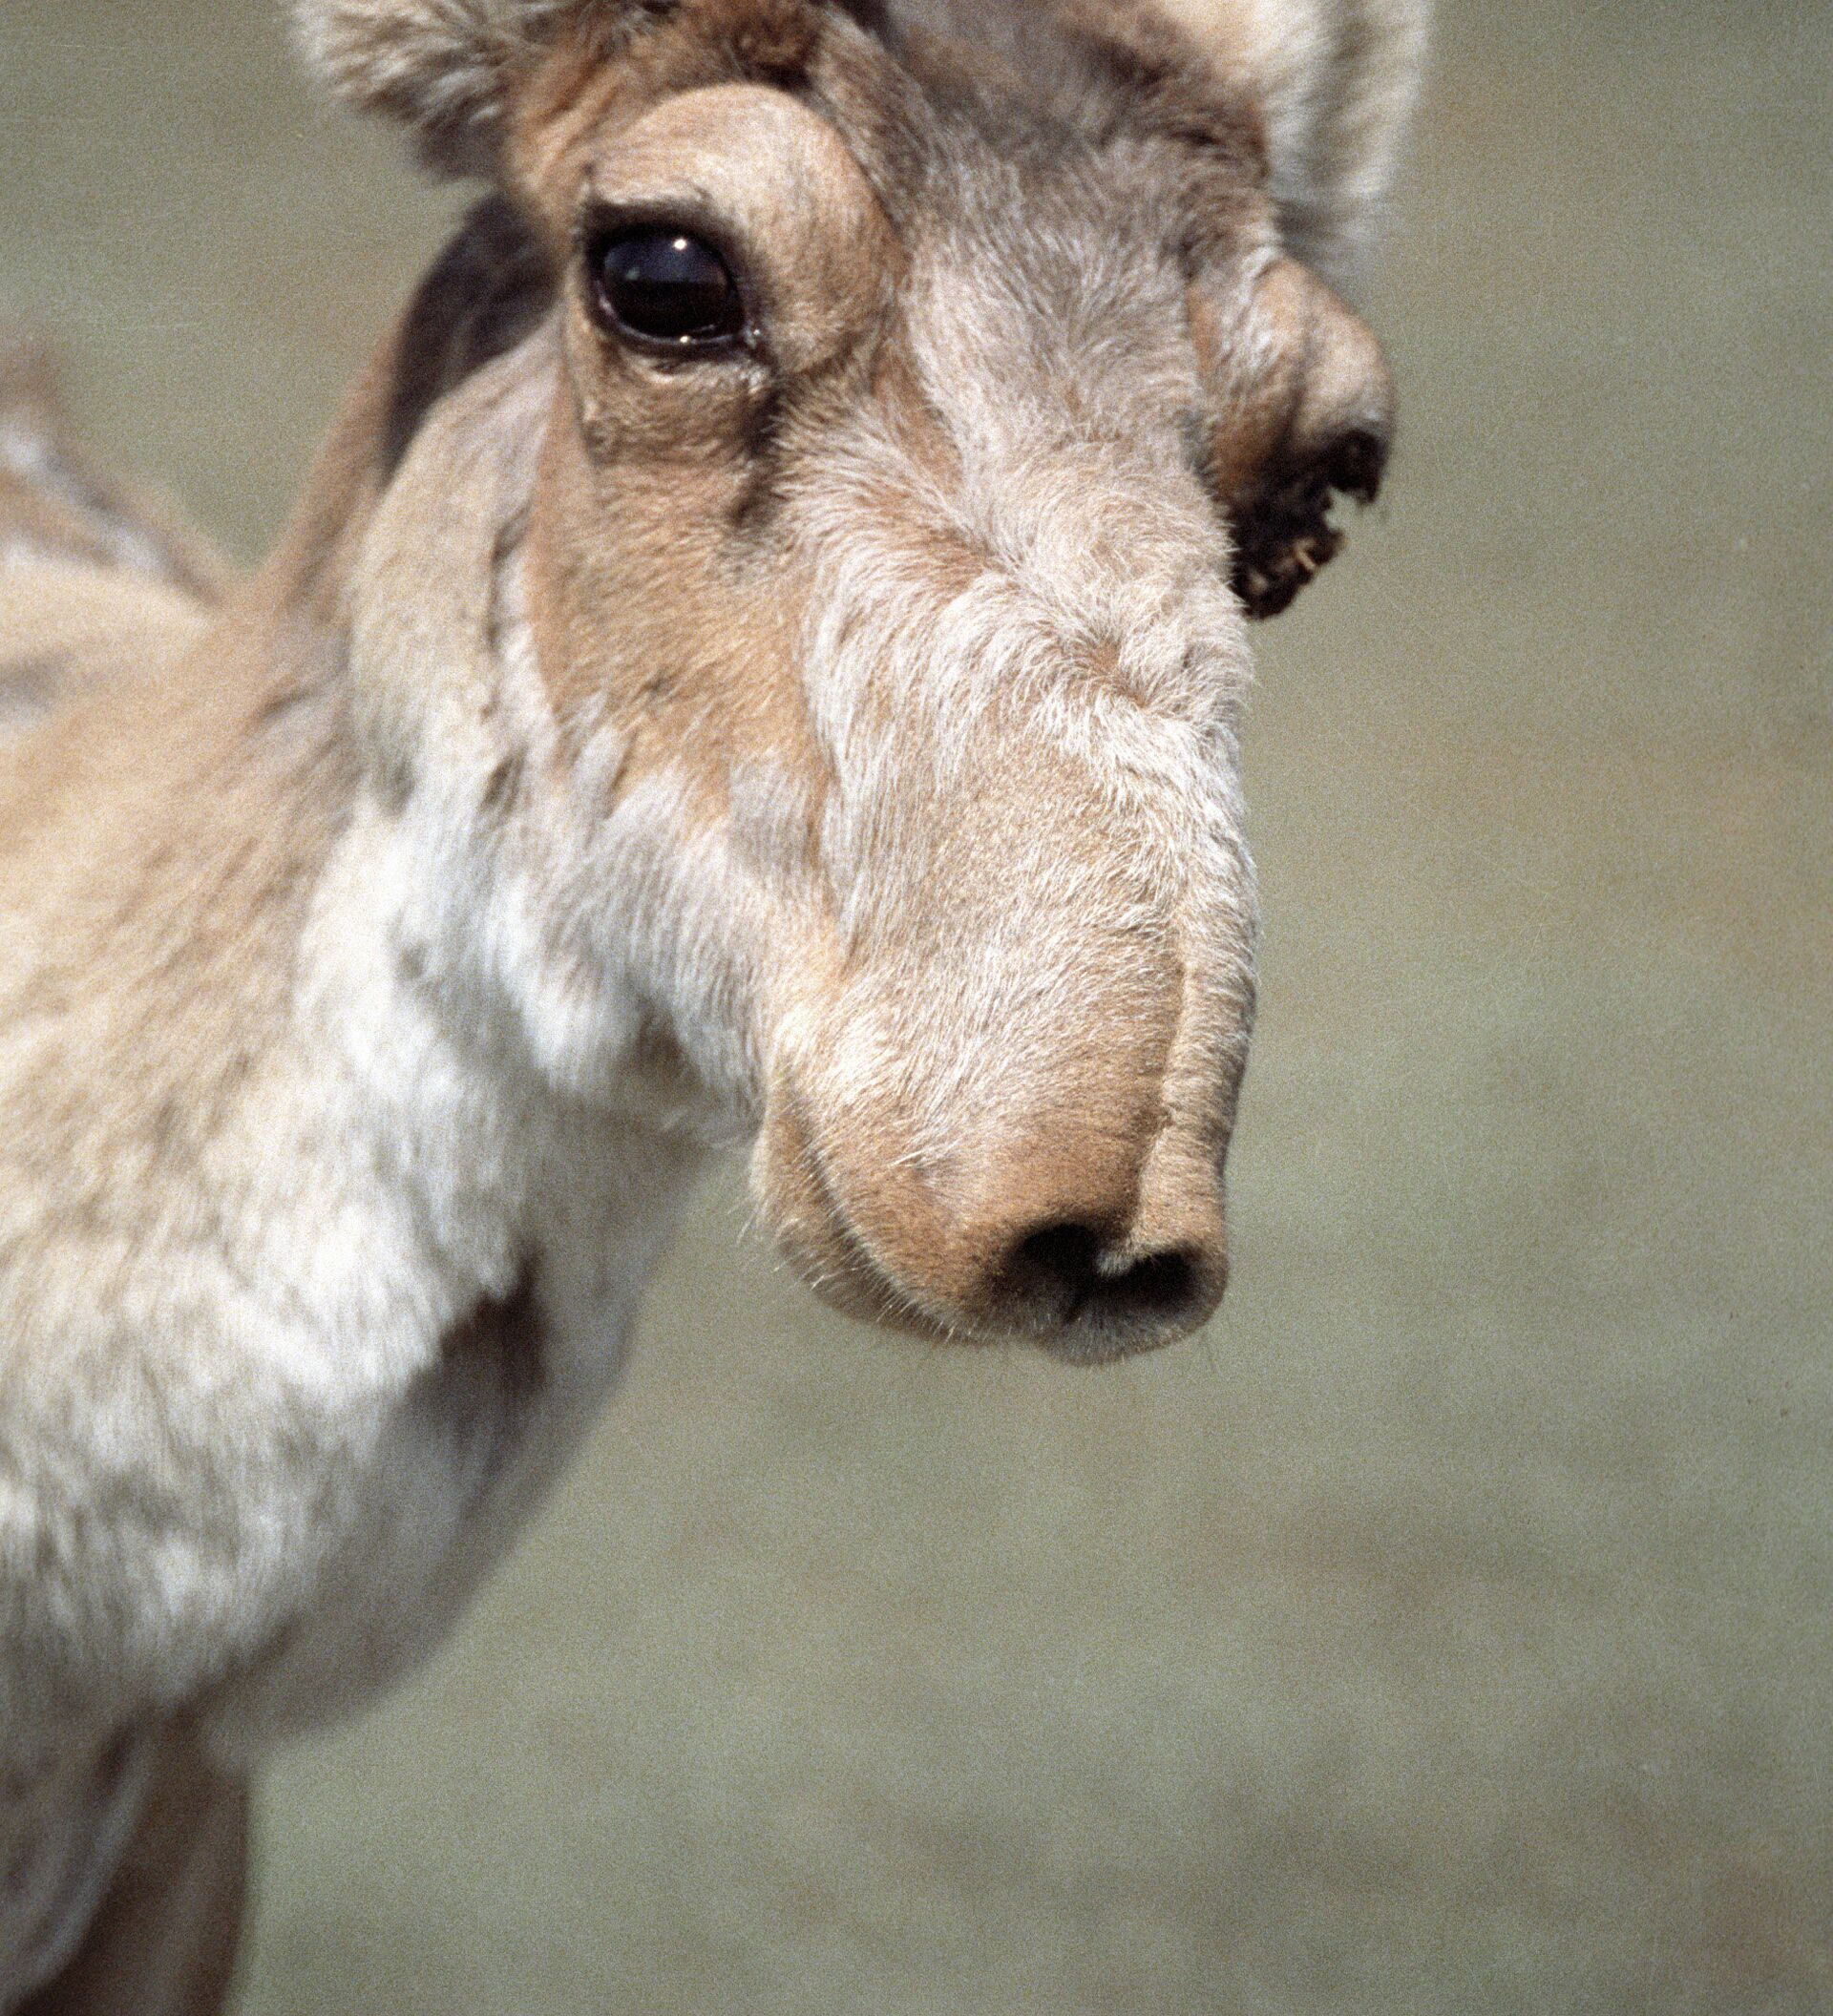saiga: (7, 21, 1522, 2004)
